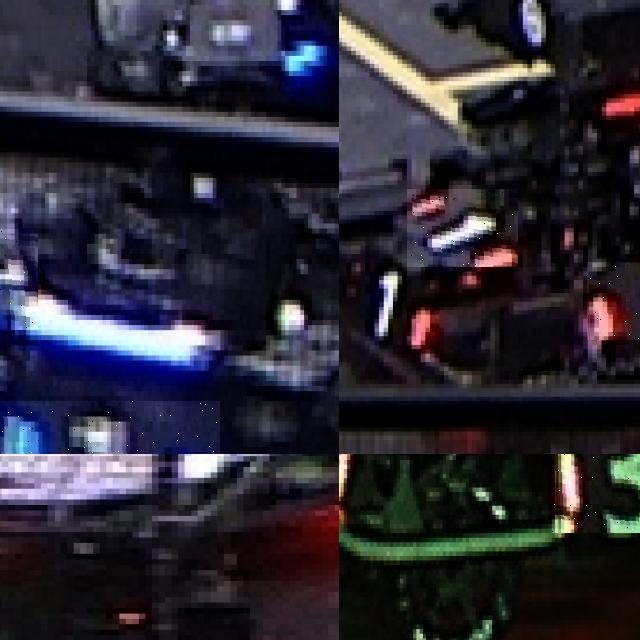B1: (0, 401, 220, 454), (0, 228, 37, 330)
R1: (407, 189, 518, 267), (587, 262, 640, 340)
R3: (551, 454, 640, 533)
